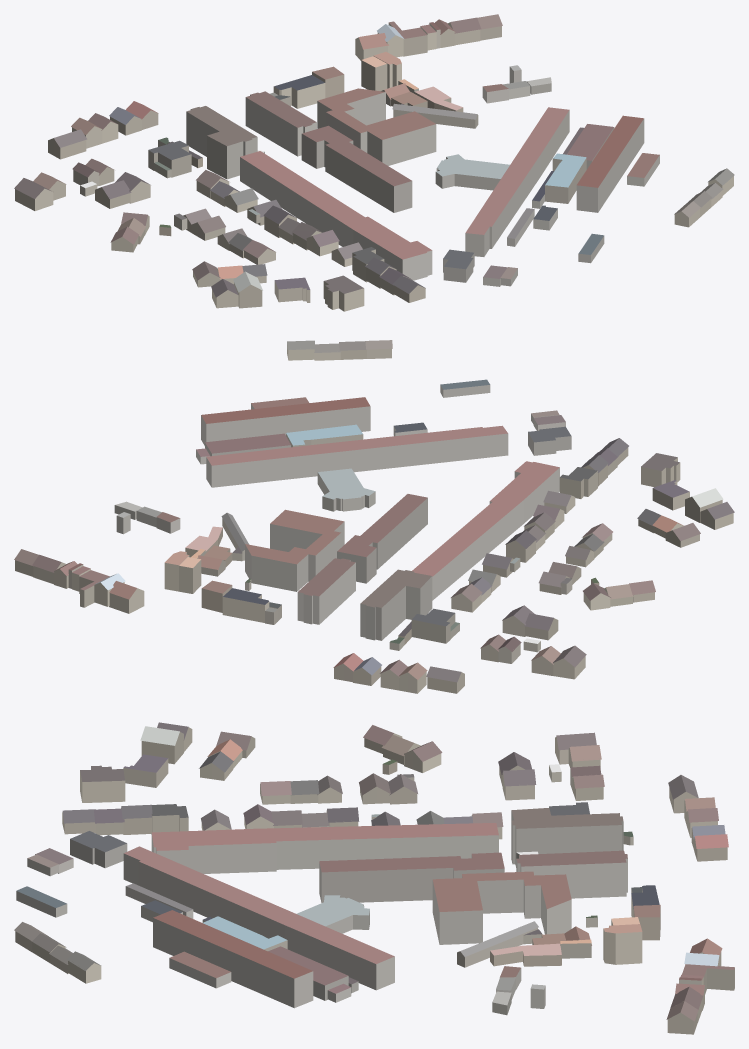
The picture shows the model from 3 angles, top to bottom: view 1: azimuth 30°, elevation 25°; view 2: azimuth 150°, elevation 25°; view 3: azimuth 270°, elevation 25°; orthographic projection. The views are drawn at different scales.
Visible parts, largest first — view 1: tuile; view 2: tuile; view 3: tuile.
Boxes of the visible parts, x1,y1,x2,y2 form: tuile: (14,14,734,311); tuile: (14,340,734,693); tuile: (14,722,734,1034).
Bounding box in the file's own units: 256 × 31.86 × 259.
